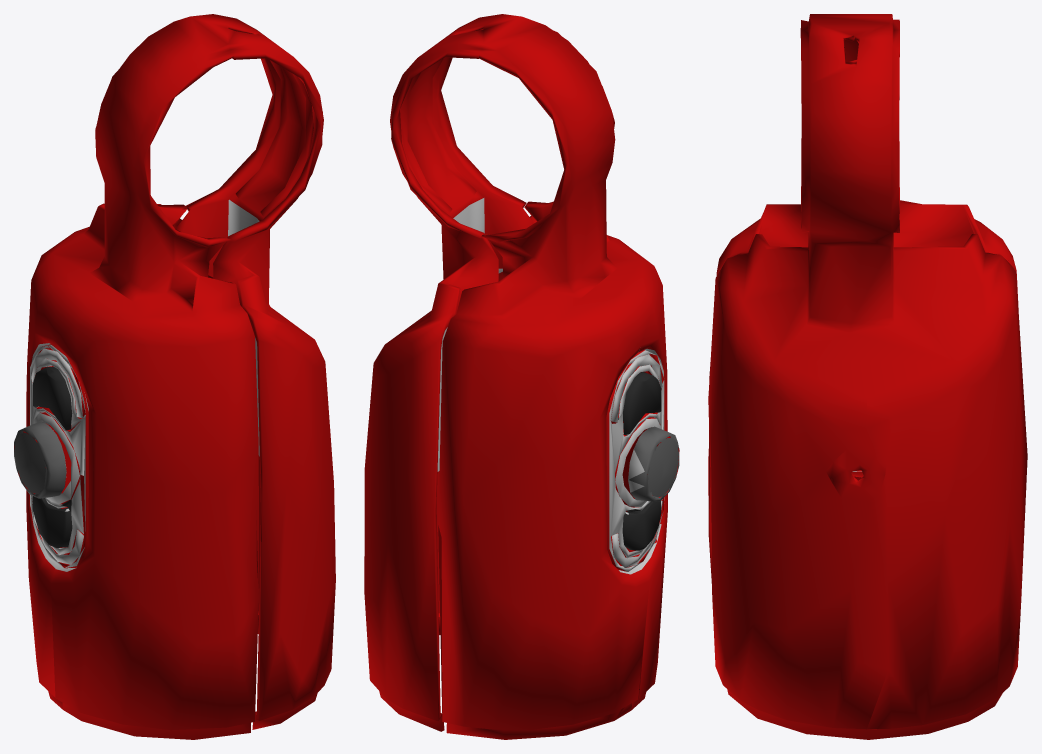
The model's file is W0_decimate.dae.
3 views of the same model, side by side, from view 1: azimuth 30°, elevation 25°; view 2: azimuth 150°, elevation 25°; view 3: azimuth 270°, elevation 25° (orthographic). The views are drawn at different scales.
Visible parts, largest first — view 1: W0; view 2: W0; view 3: W0.
Boxes of the visible parts, left/top/right/bottom form: W0: left=14, top=14, right=335, bottom=739; W0: left=364, top=14, right=679, bottom=739; W0: left=708, top=14, right=1027, bottom=739.
Size of the model in its own units: 0.1581 by 0.1486 by 0.3418.
